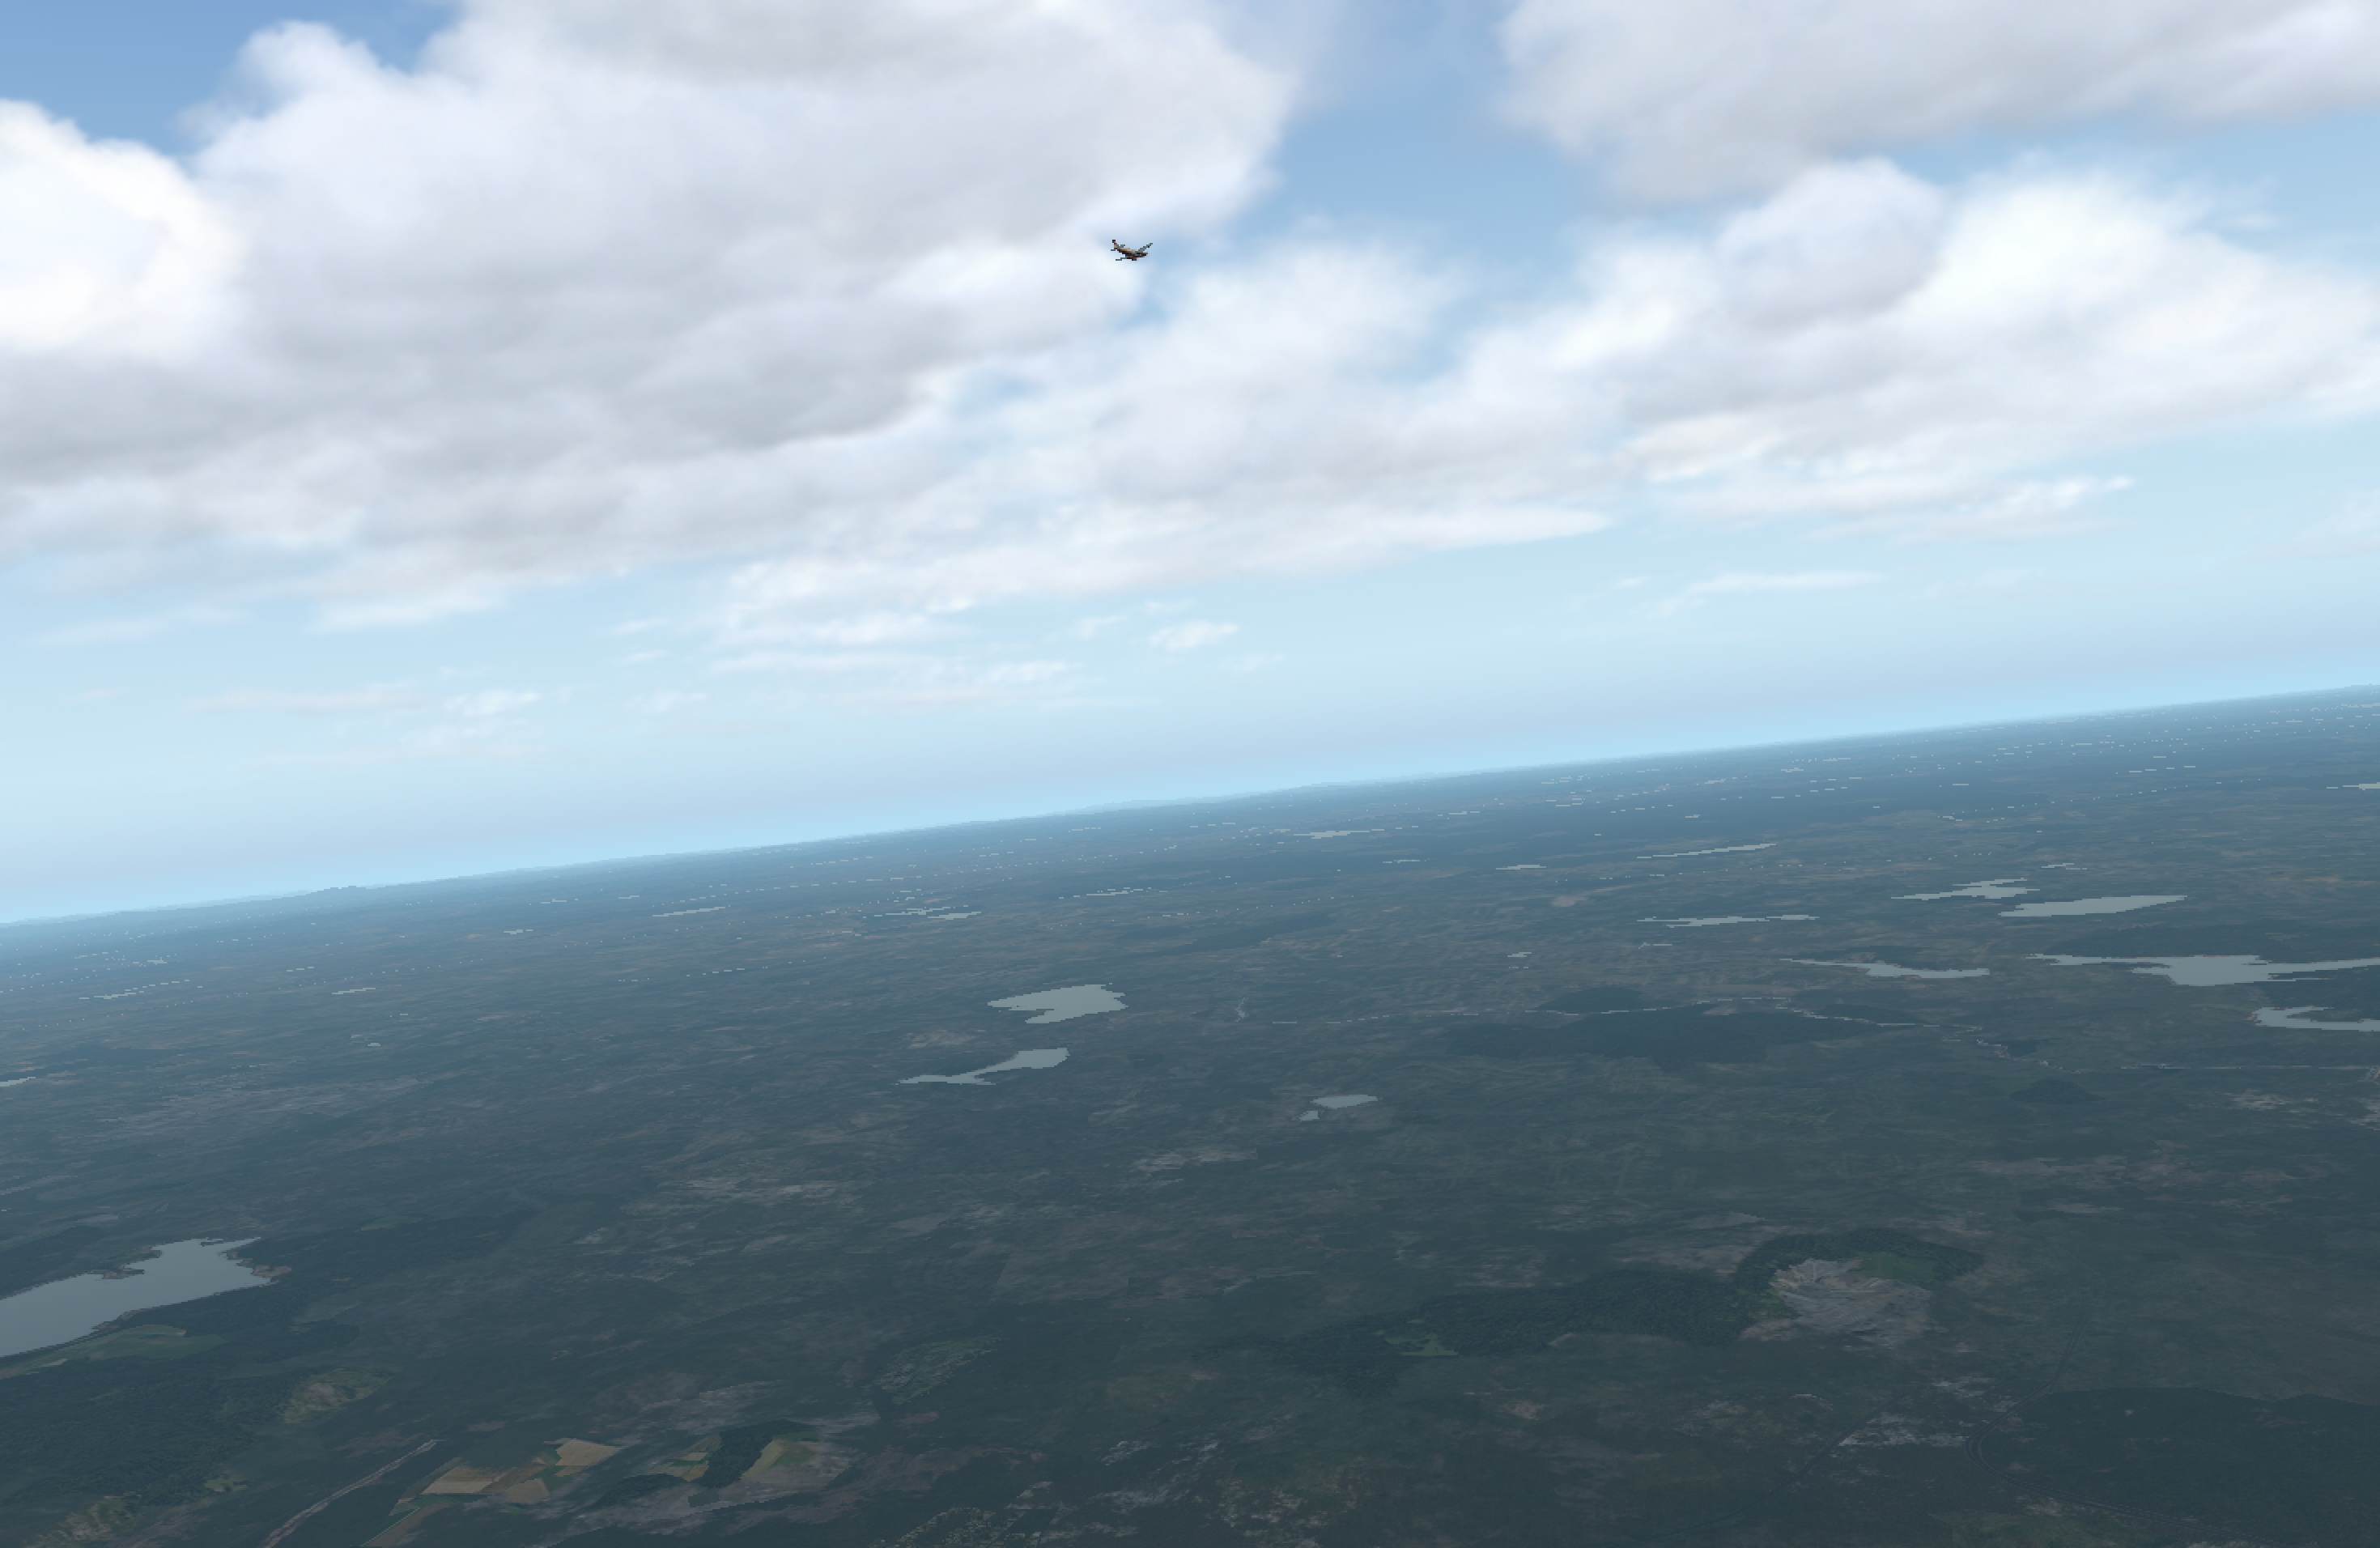aircraft: (1105, 245, 1164, 267)
